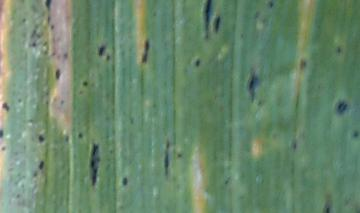tarspot: (91, 142, 100, 186), (247, 71, 259, 102), (203, 1, 211, 38), (162, 140, 170, 177), (141, 36, 149, 63), (336, 100, 348, 115), (52, 67, 62, 80), (215, 16, 221, 32), (300, 58, 306, 71), (44, 1, 51, 12), (98, 45, 104, 57), (1, 103, 10, 111), (37, 134, 45, 143), (291, 141, 298, 151), (37, 161, 45, 169), (336, 46, 343, 55), (176, 153, 184, 160), (62, 52, 69, 60), (122, 176, 128, 185), (325, 204, 331, 213), (81, 80, 88, 87), (195, 59, 201, 67), (353, 130, 359, 138), (31, 40, 37, 48), (59, 98, 65, 106), (1, 143, 7, 151), (65, 134, 70, 143), (1, 128, 5, 139), (46, 16, 52, 23), (15, 97, 22, 103), (106, 54, 111, 62), (20, 17, 26, 23), (32, 172, 39, 177), (269, 2, 274, 8), (50, 24, 55, 30), (78, 132, 82, 138)
